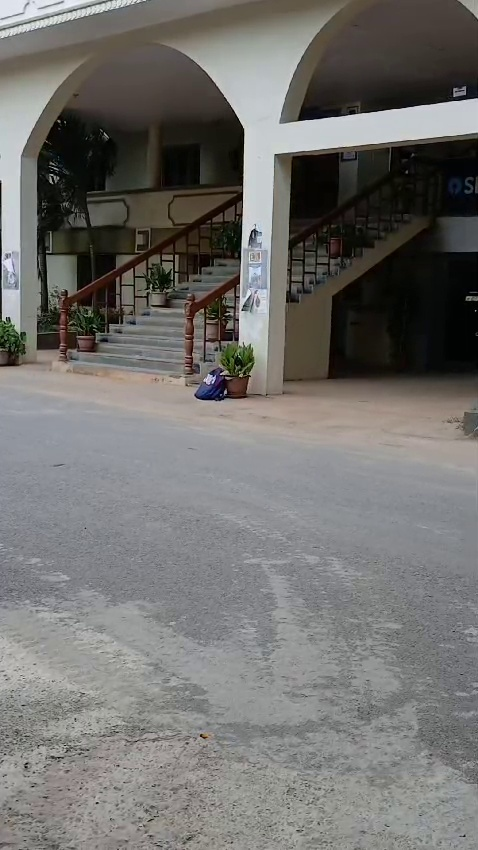bag: (185, 370, 225, 403)
